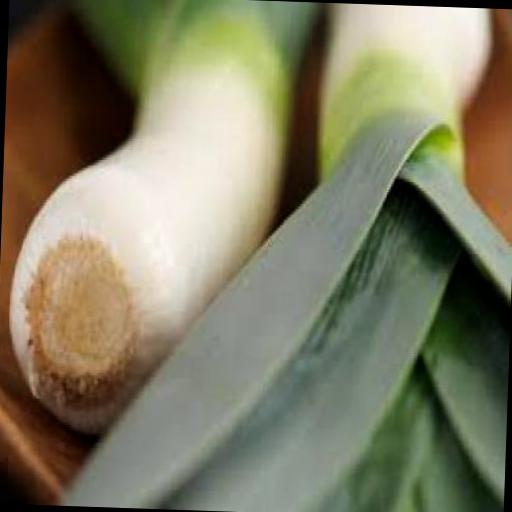biodegradable: (52, 97, 512, 512), (1, 0, 320, 440), (312, 2, 494, 184)
